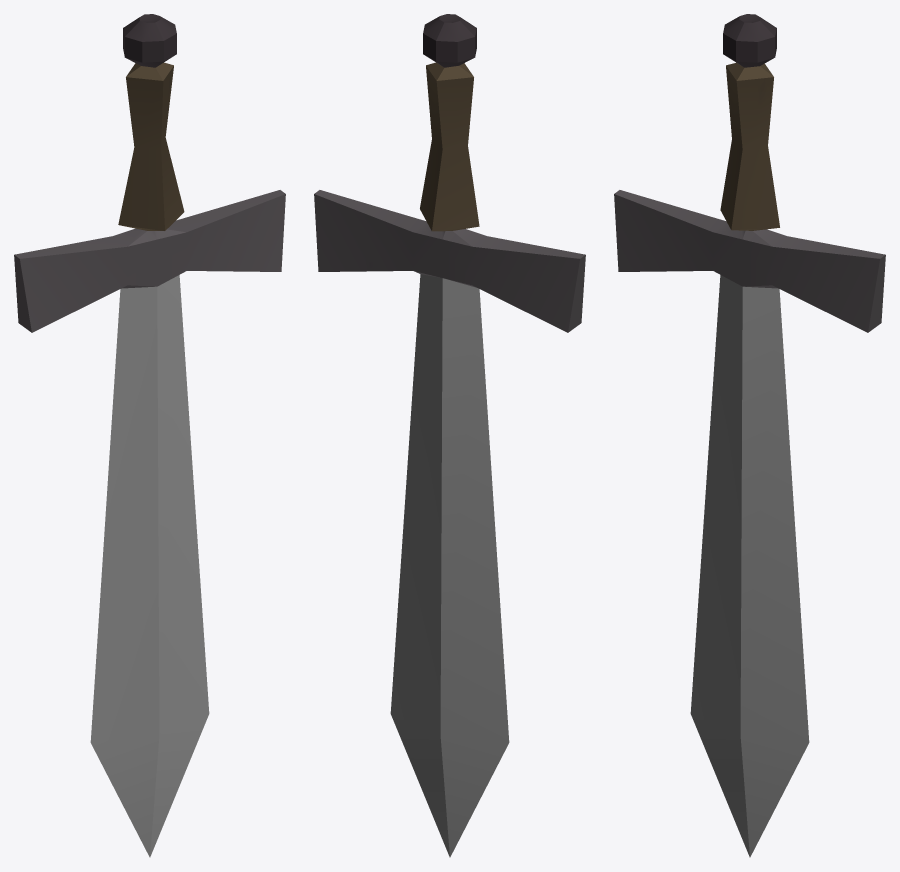
File: sword.glb
3 renders of one model, left to right at view 1: azimuth 30°, elevation 25°; view 2: azimuth 150°, elevation 25°; view 3: azimuth 330°, elevation 25°, orthographic.
Parts seen in each view (by area): view 1: sword; view 2: sword; view 3: sword.
Part boxes in pixels (x1,y1,x2,y2): sword: (14, 14, 285, 857); sword: (314, 14, 585, 857); sword: (614, 14, 885, 857).
Bounding box in the file's own units: 0.3709 × 1.12 × 0.0842.
1 material, 1 textured.
